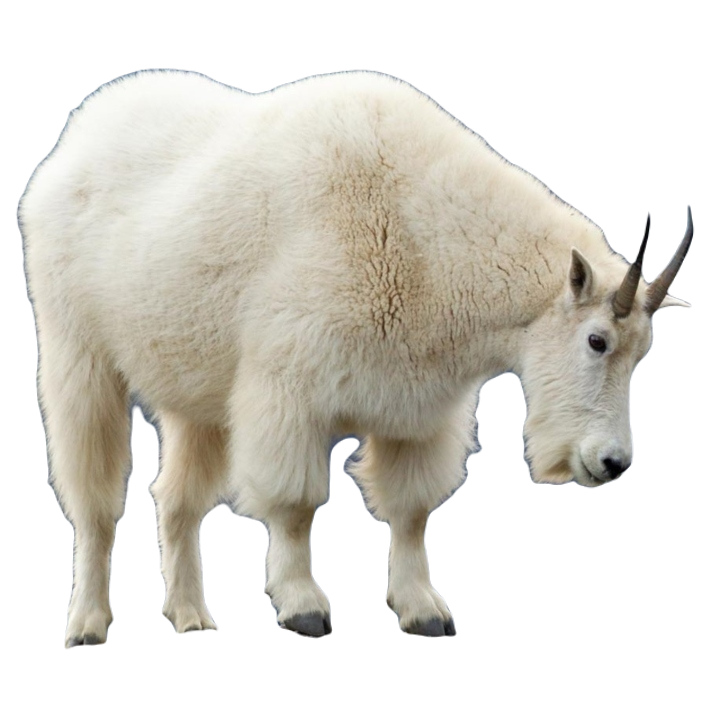Goat: (13, 65, 697, 648)
